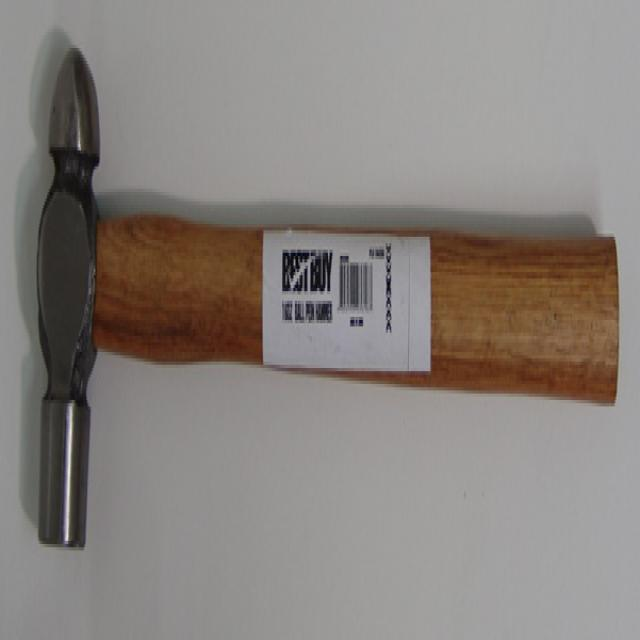hammer: (25, 29, 624, 582)
